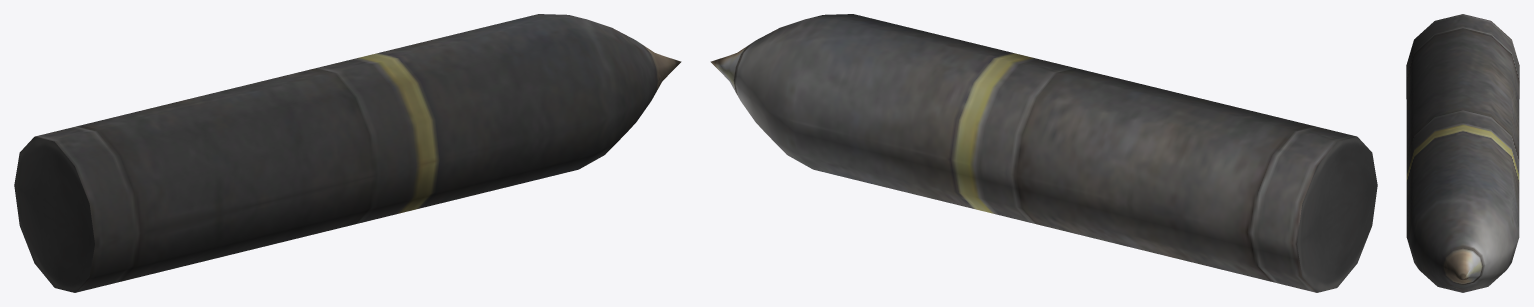
Rendered from Bomb_Missile_b.FBX.
3 views of the same model, side by side, from view 1: azimuth 30°, elevation 25°; view 2: azimuth 150°, elevation 25°; view 3: azimuth 270°, elevation 25° (orthographic). The views are drawn at different scales.
Visible parts, largest first — view 1: Bomb_Missile_b; view 2: Bomb_Missile_b; view 3: Bomb_Missile_b.
Part boxes in pixels (bbox=[...]): Bomb_Missile_b: bbox=[14, 14, 681, 292]; Bomb_Missile_b: bbox=[710, 14, 1377, 292]; Bomb_Missile_b: bbox=[1406, 14, 1519, 292].
Bounding box in the file's own units: 281 × 62.65 × 62.65.
Materials: 1 (1 with a texture image).
